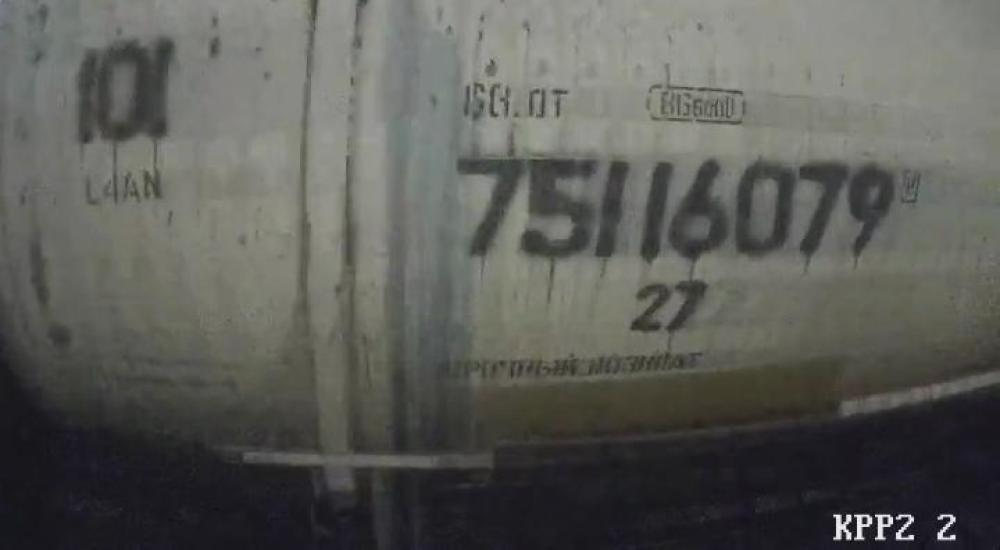Wagon-number: (445, 146, 899, 266)
